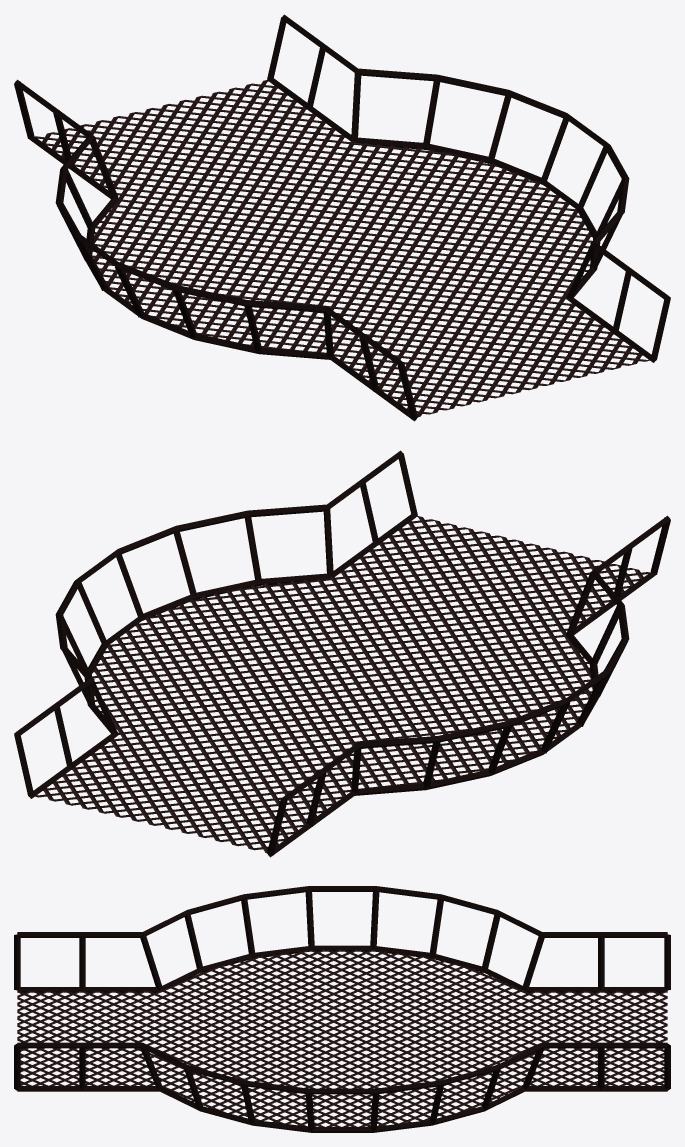
File: Platform_R_2.fbx
3 views of the same model, one above another, from view 1: azimuth 30°, elevation 25°; view 2: azimuth 150°, elevation 25°; view 3: azimuth 270°, elevation 25° (orthographic). The views are drawn at different scales.
Visible parts, largest first — view 1: Plat_R_2, Plat_R_2 Rails; view 2: Plat_R_2, Plat_R_2 Rails; view 3: Plat_R_2, Plat_R_2 Rails.
Part boxes in pixels (x1=…): Plat_R_2: x1=35, y1=80, x2=651, y2=417; Plat_R_2 Rails: x1=14, y1=14, x2=670, y2=421; Plat_R_2: x1=33, y1=516, x2=649, y2=853; Plat_R_2 Rails: x1=14, y1=450, x2=670, y2=857; Plat_R_2: x1=17, y1=950, x2=667, y2=1126; Plat_R_2 Rails: x1=14, y1=886, x2=670, y2=1132.
Size of the model in its own units: 112 by 13.98 by 152.
2 materials, 1 textured.
